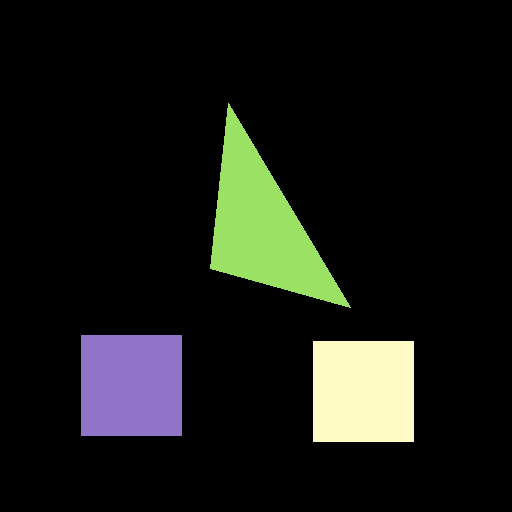square: (313, 341, 413, 441), (81, 335, 181, 435)
triangle: (210, 103, 350, 307)
